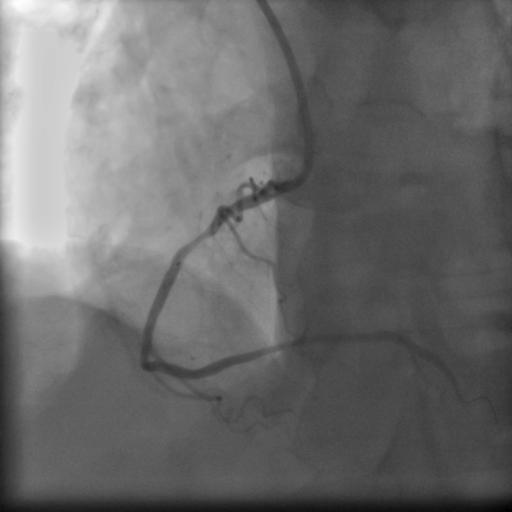Stenosis: (182, 225, 219, 246)
